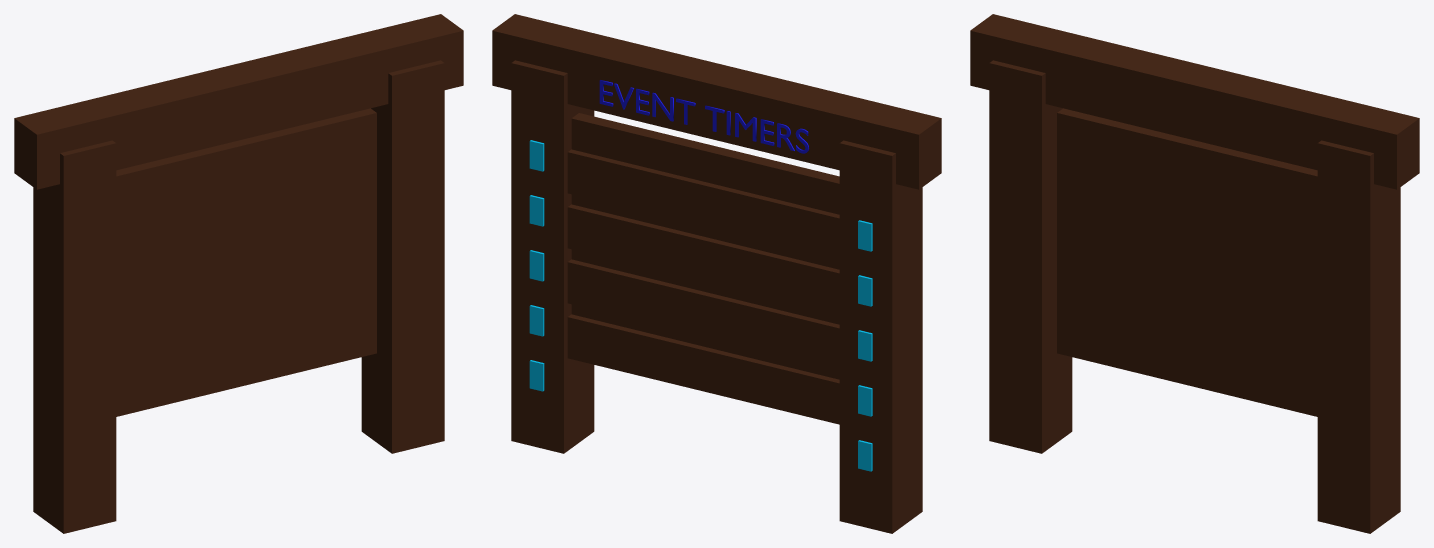
File: EventTimers.obj
3 views of the same model, side by side, from view 1: azimuth 30°, elevation 25°; view 2: azimuth 150°, elevation 25°; view 3: azimuth 330°, elevation 25° (orthographic).
Visible parts, largest first — view 1: MainBoard, Header, Post_L, Post_R; view 2: Header, Post_L, Post_R, MainBoard, Slat_2.2, Slat_1.4, Slat_3.8, Slat_3.0, Text; view 3: MainBoard, Header, Post_R, Post_L.
Boxes of the visible parts, x1,y1,x2,y2 form: MainBoard: [116, 108, 376, 416]; Header: [14, 14, 463, 189]; Post_L: [33, 140, 116, 533]; Post_R: [361, 60, 444, 453]; Header: [492, 14, 941, 189]; Post_L: [839, 140, 922, 533]; Post_R: [511, 60, 594, 453]; MainBoard: [571, 113, 839, 379]; Slat_2.2: [567, 259, 839, 369]; Slat_1.4: [567, 314, 839, 424]; Slat_3.8: [567, 149, 839, 259]; Slat_3.0: [567, 204, 839, 314]; Text: [599, 80, 808, 153]; MainBoard: [1057, 108, 1317, 416]; Header: [970, 14, 1419, 189]; Post_R: [1317, 140, 1400, 533]; Post_L: [989, 60, 1072, 453].
Size of the model in its own units: 6.5 by 5.85 by 0.835.
